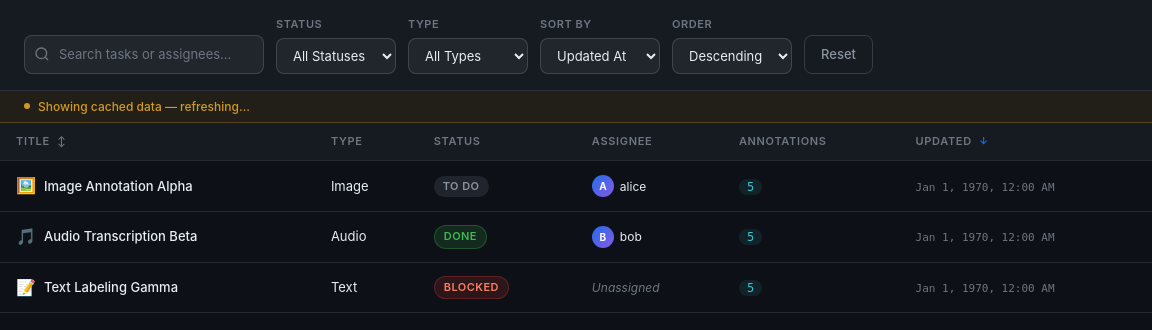
Scenario: TaskTable filtering interactions › filters tasks by type
Step 1. Select "Text" in the dropdown named "filter by type" → (468, 56), box [408,38,528,74]
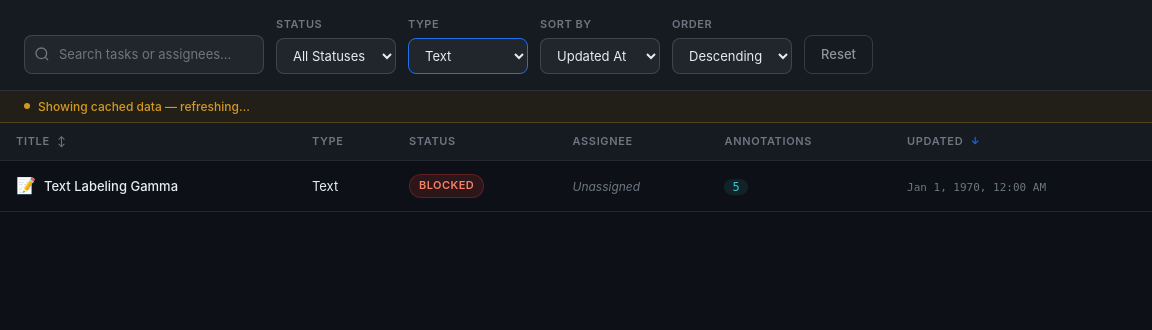
Expected: the text "Text Labeling Gamma" is shown, [44,176,178,197]
Expected: the button "Image Annotation Alpha" is gone
Expected: the button "Audio Transcription Beta" is gone
